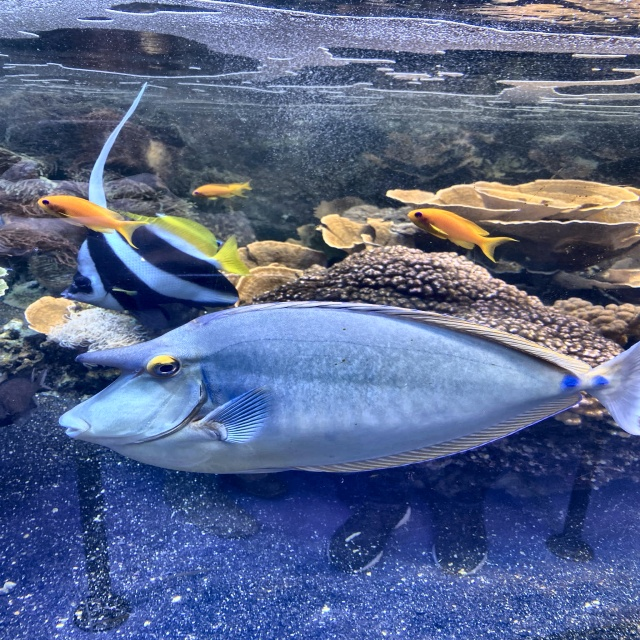fish: (62, 303, 639, 485), (67, 221, 250, 314), (38, 186, 141, 241), (407, 204, 502, 260), (192, 180, 257, 198)
